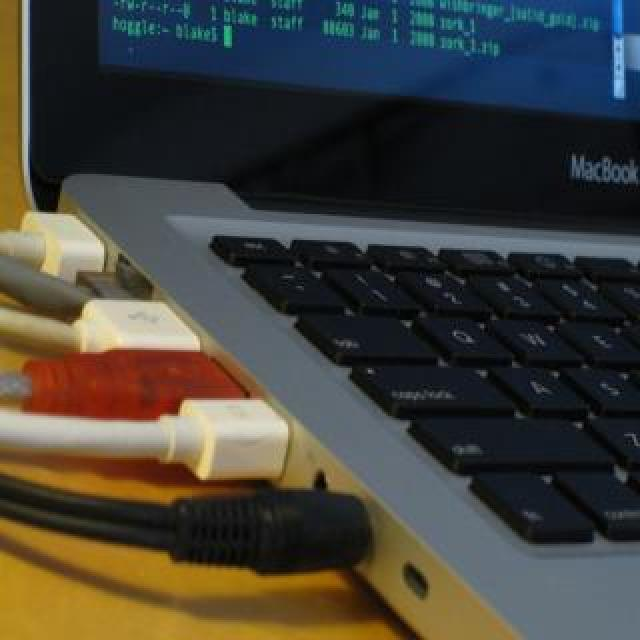laptop_computer: (163, 8, 625, 622)
